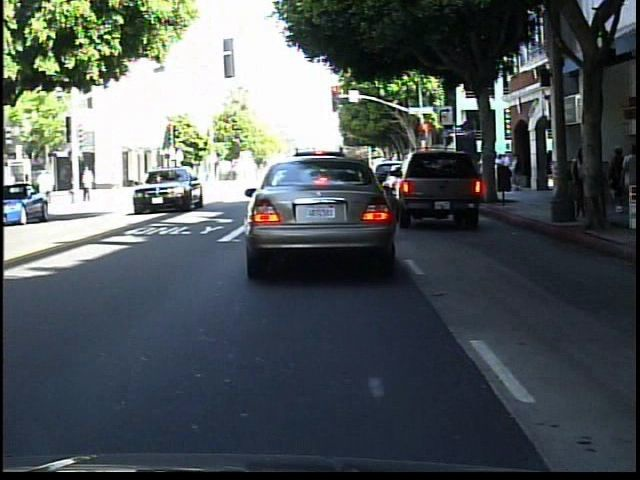person: (568, 144, 593, 225), (615, 141, 639, 221), (605, 146, 628, 214), (81, 163, 102, 206)
